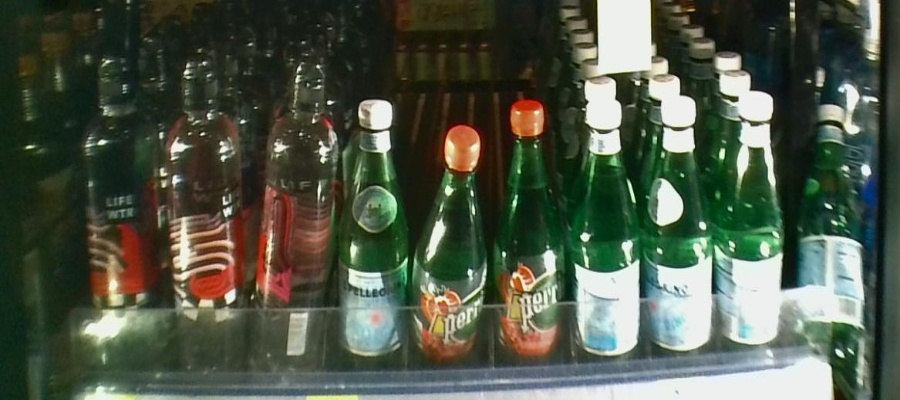bottle: (163, 57, 248, 376), (255, 65, 335, 384), (83, 47, 160, 378), (339, 93, 409, 398), (416, 109, 492, 388), (573, 90, 643, 382), (497, 91, 565, 379), (649, 94, 716, 370), (720, 87, 787, 363)
